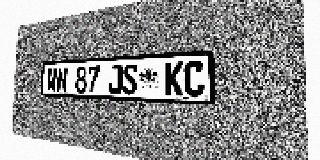7: (87, 65, 100, 93)
8: (75, 66, 87, 93)
C: (184, 61, 204, 97)
J: (108, 64, 123, 94)
K: (164, 62, 183, 96)
N: (56, 67, 67, 92)
S: (122, 64, 138, 95)
W: (47, 67, 57, 92)
